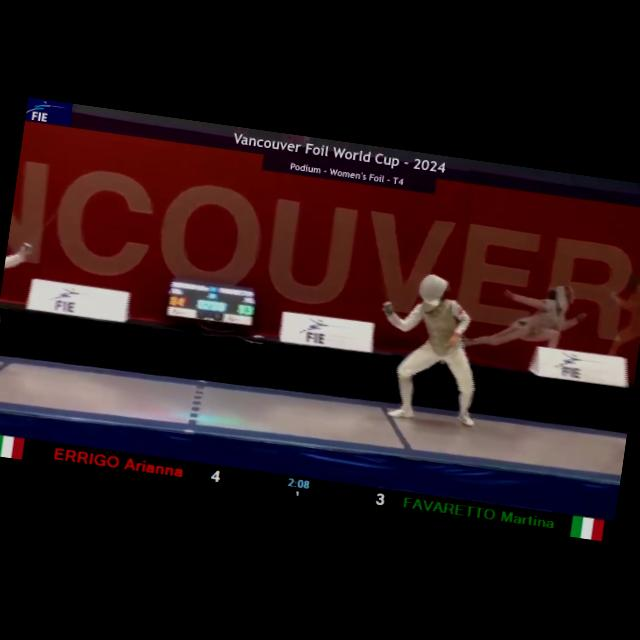blade: (19, 191, 70, 258)
